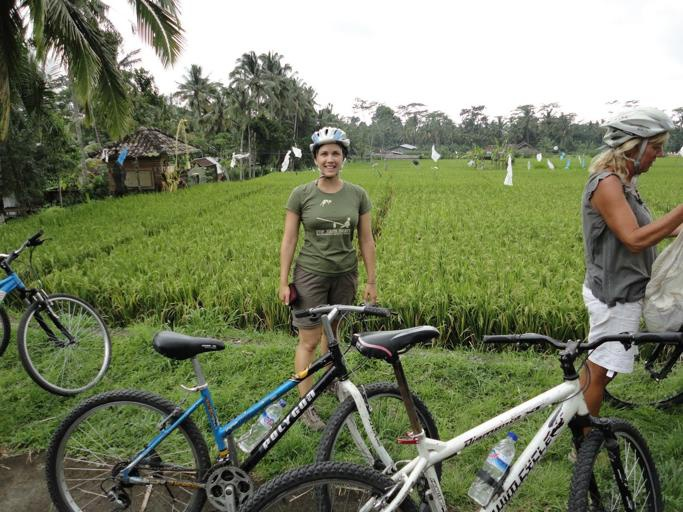non-vehicle: (240, 320, 682, 511), (41, 300, 436, 512), (0, 228, 111, 396), (600, 319, 682, 412)
